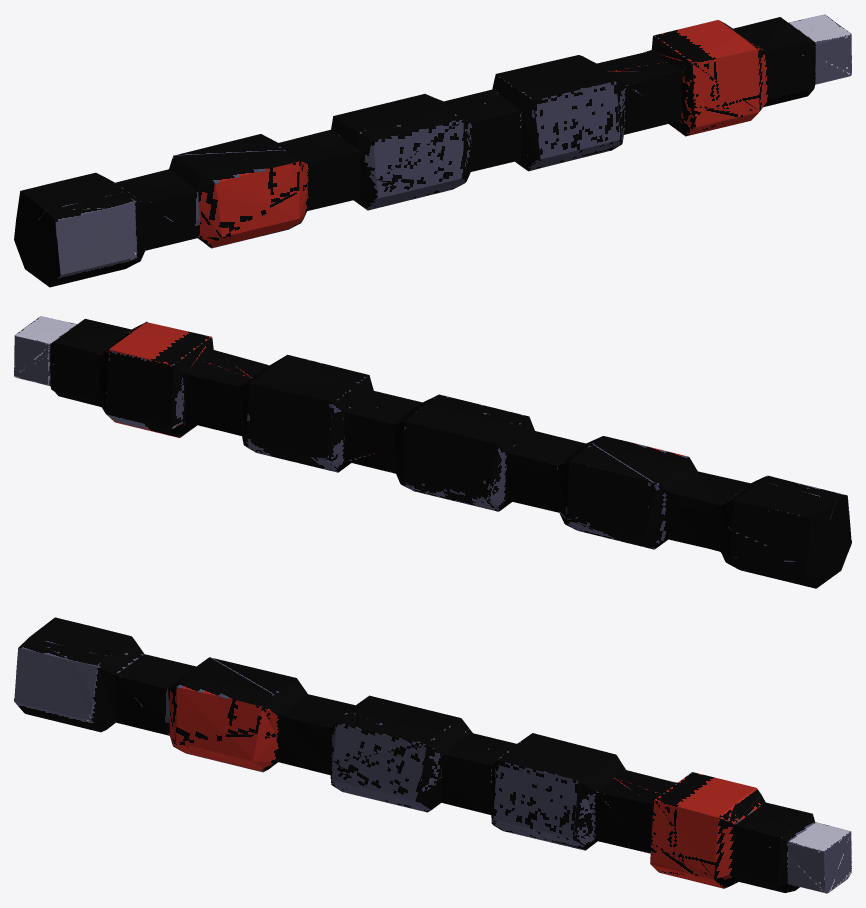
3 renders of one model, top to bottom at view 1: azimuth 30°, elevation 25°; view 2: azimuth 150°, elevation 25°; view 3: azimuth 330°, elevation 25°, orthographic.
Visible parts, largest first — view 1: OBJ099; view 2: OBJ099; view 3: OBJ099.
Boxes of the visible parts, left/top/right/bottom form: OBJ099: left=14, top=14, right=851, bottom=287; OBJ099: left=14, top=316, right=851, bottom=588; OBJ099: left=14, top=617, right=851, bottom=893.
Size of the model in its own units: 0.3421 by 0.032 by 0.0349.
Materials: 1 (1 with a texture image).
